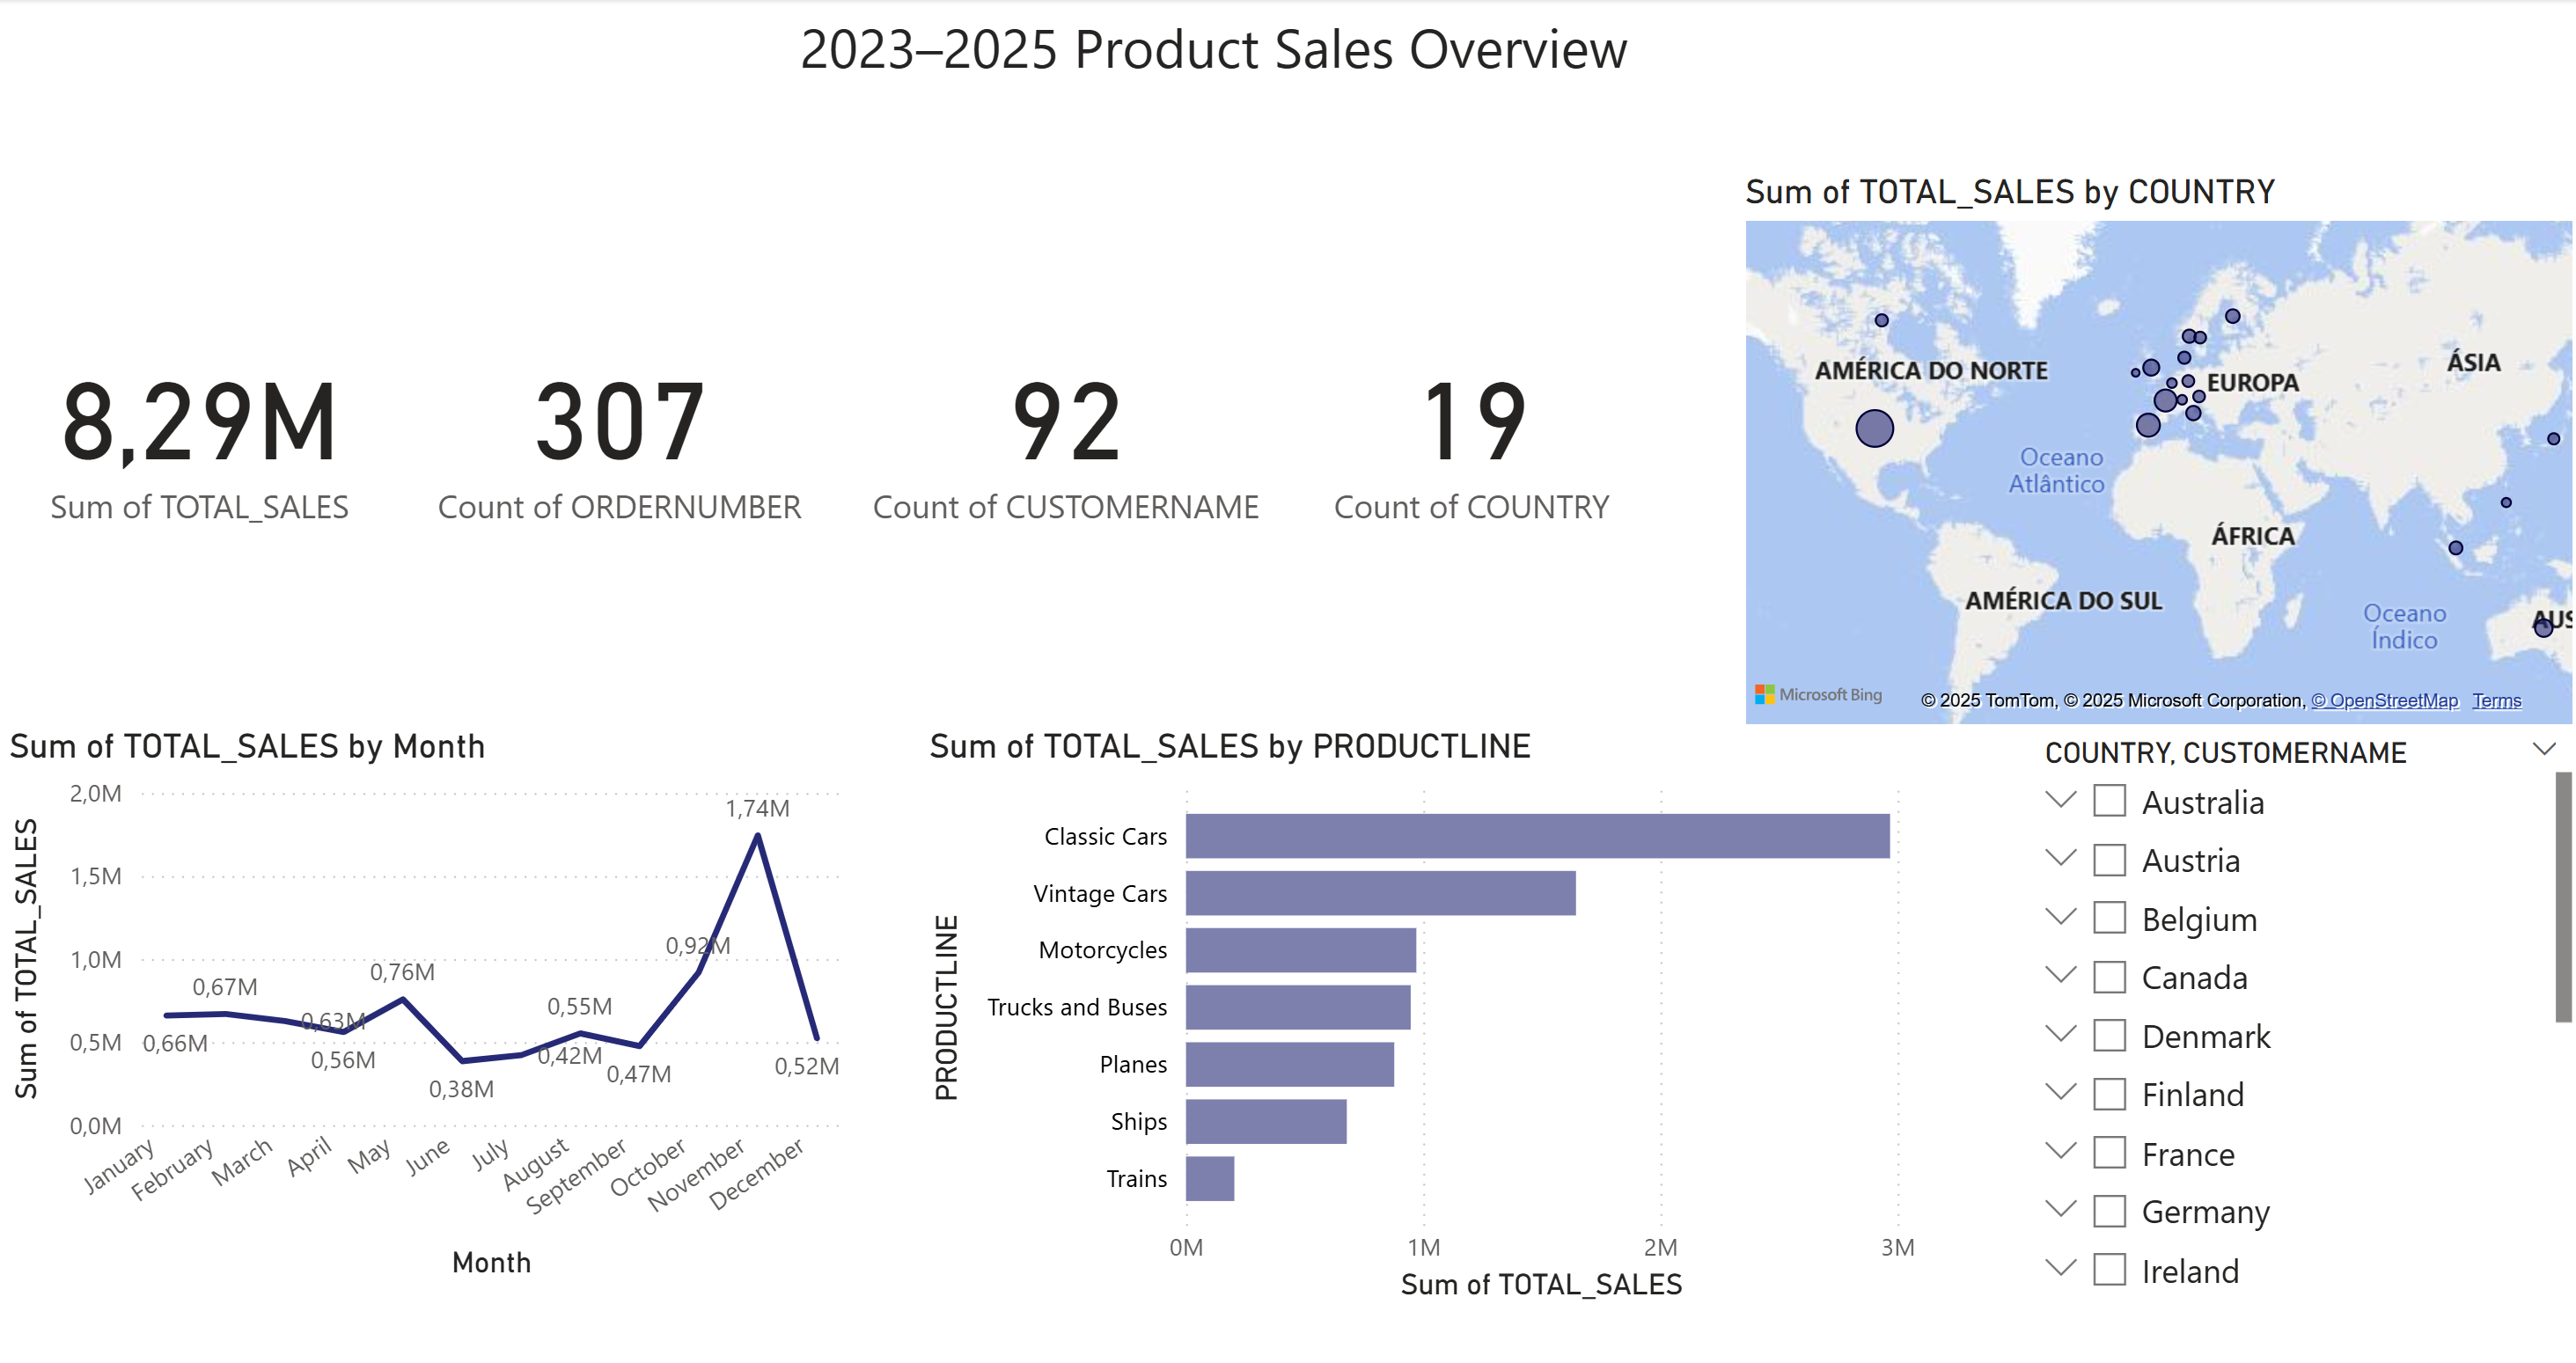

This screenshot's page, from the dashboard's own definition file:
{"tool":"powerbi","page":{"name":"Page 1","canvas":[1280,720],"ordinal":0},"visuals":[{"type":"card","fields":{"Values":["Count(sales_data_sample.ORDERNUMBER)"]},"box":[198.1,113.1,218.4,198.8],"z":0},{"type":"card","fields":{"Values":["Count(sales_data_sample.CUSTOMERNAME)"]},"box":[416.6,113.1,223.7,198.8],"z":1000},{"type":"card","fields":{"Values":["Count(sales_data_sample.COUNTRY)"]},"box":[640.2,113.1,178.5,198.8],"z":2000},{"type":"lineChart","fields":{"Y":["Sum(monthly_sales.TOTAL_SALES)"],"Category":["monthly_sales.Month.Variation.Date Hierarchy.Month"]},"box":[0,359.7,422.5,279.2],"z":3000},{"type":"clusteredBarChart","fields":{"Category":["top_products.PRODUCTLINE"],"Y":["Sum(top_products.TOTAL_SALES)"]},"box":[455.8,359.7,499,289.7],"z":4000},{"type":"map","fields":{"Category":["country_sales.COUNTRY"],"Size":["Sum(country_sales.TOTAL_SALES)"]},"box":[859.9,85,419.8,279.2],"z":5000},{"type":"slicer","fields":{"Values":["country_sales.COUNTRY","sales_data_sample.CUSTOMERNAME"]},"box":[1000.5,359.7,279.2,289.7],"z":6000},{"type":"card","title":"Total Sales","fields":{"Values":["Sum(monthly_sales.TOTAL_SALES)"]},"box":[0,113.1,198.1,198.8],"z":7000},{"type":"textbox","box":[391.7,0,497,57.5],"z":7001}]}

Visuals, with their boxes on the page's 1280x720 design canvas (x1, y1, x2, y2). These are canvas units, not pixel positions in the 2576x1363 screenshot, which may show the page scaled, cropped or inside an application window:
card - Count(sales_data_sample.ORDERNUMBER): {"left": 198, "top": 113, "right": 416, "bottom": 312}
card - Count(sales_data_sample.CUSTOMERNAME): {"left": 417, "top": 113, "right": 640, "bottom": 312}
card - Count(sales_data_sample.COUNTRY): {"left": 640, "top": 113, "right": 819, "bottom": 312}
lineChart - Sum(monthly_sales.TOTAL_SALES) x monthly_sales.Month.Variation.Date Hierarchy.Month: {"left": 0, "top": 360, "right": 422, "bottom": 639}
clusteredBarChart - top_products.PRODUCTLINE x Sum(top_products.TOTAL_SALES): {"left": 456, "top": 360, "right": 955, "bottom": 649}
map - country_sales.COUNTRY x Sum(country_sales.TOTAL_SALES): {"left": 860, "top": 85, "right": 1280, "bottom": 364}
slicer - country_sales.COUNTRY x sales_data_sample.CUSTOMERNAME: {"left": 1000, "top": 360, "right": 1280, "bottom": 649}
"Total Sales" card: {"left": 0, "top": 113, "right": 198, "bottom": 312}
textbox: {"left": 392, "top": 0, "right": 889, "bottom": 58}
